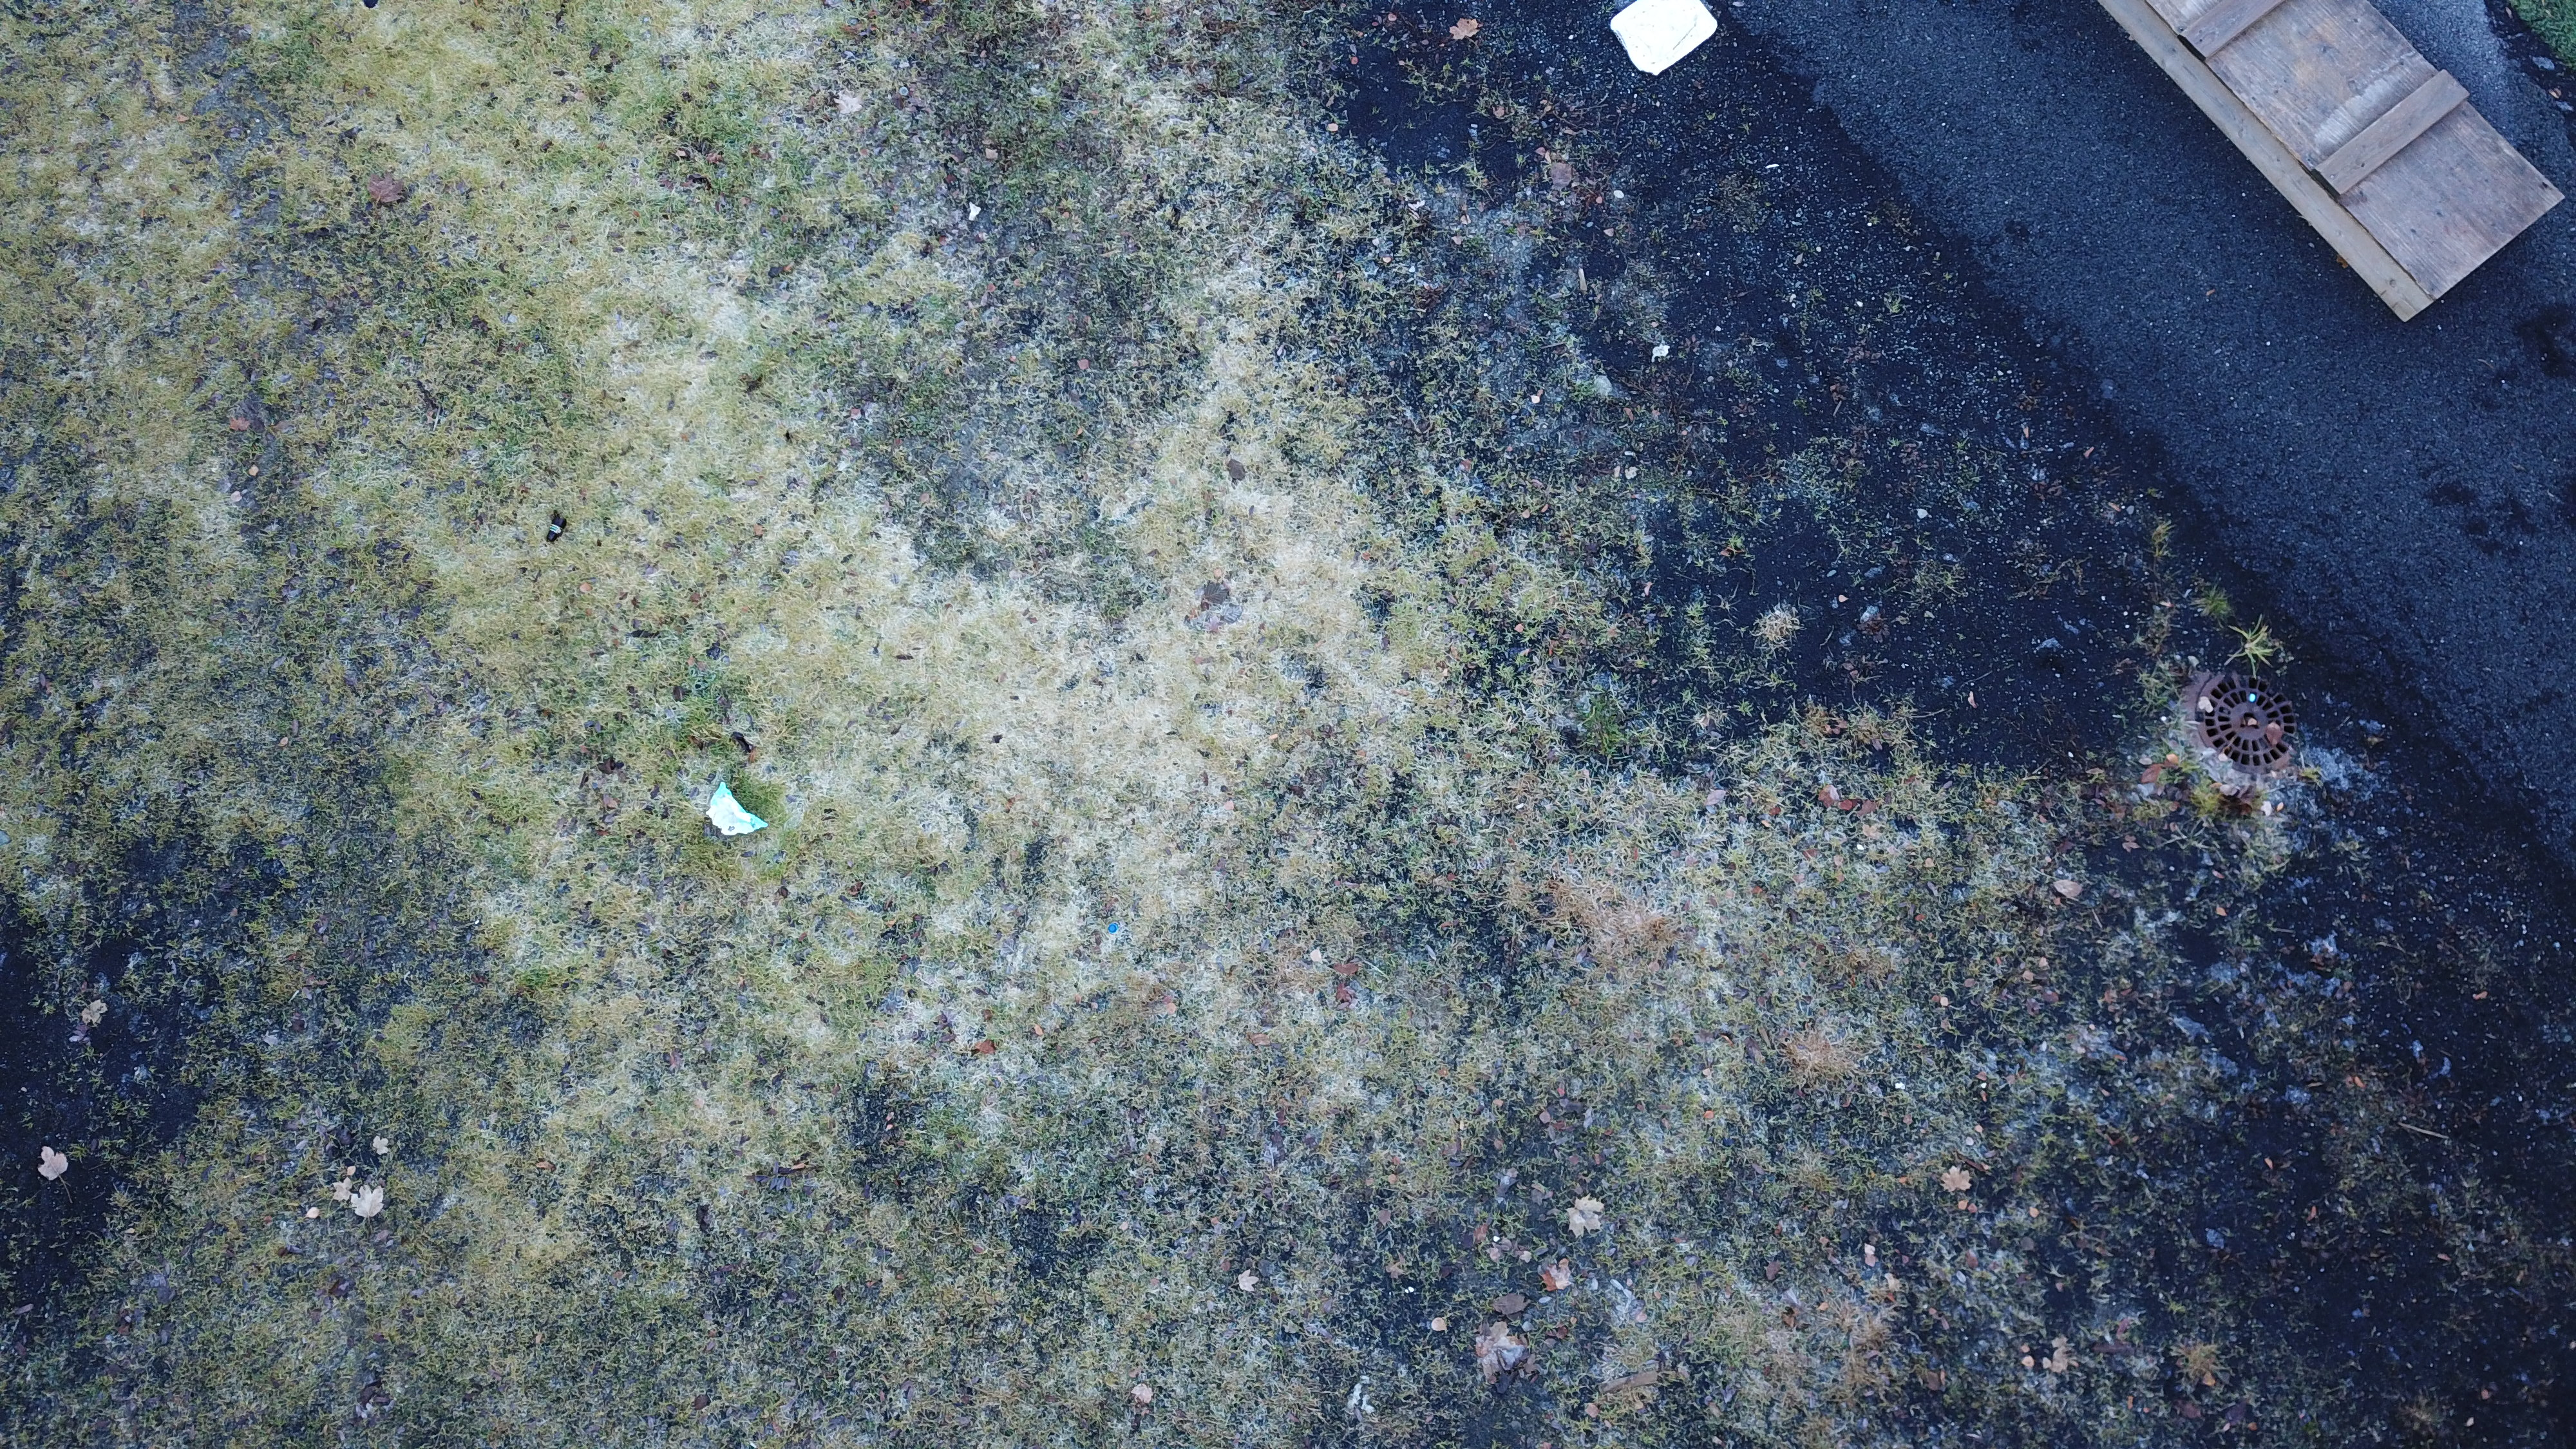Other: (1610, 0, 1720, 78)
Plastic: (701, 784, 770, 840)
